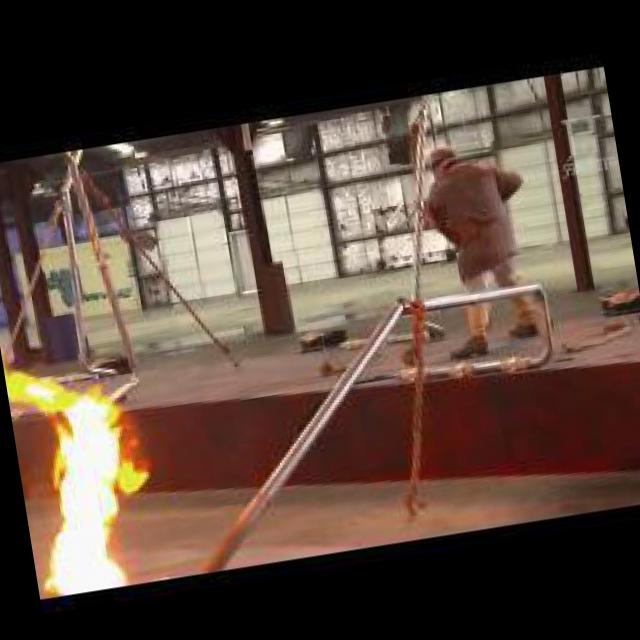fire: (0, 318, 162, 597)
